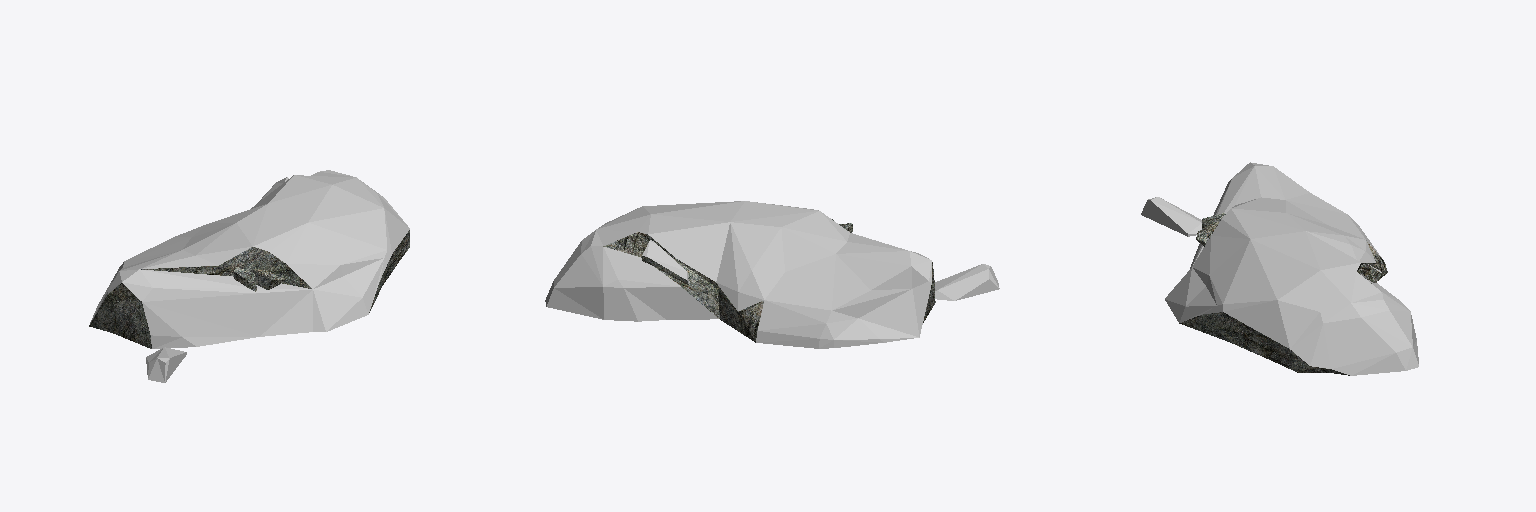
3 views of the same model, side by side, from view 1: azimuth 30°, elevation 25°; view 2: azimuth 150°, elevation 25°; view 3: azimuth 270°, elevation 25° (orthographic).
Parts seen in each view (by area): view 1: outcropA; view 2: outcropA; view 3: outcropA.
Boxes of the visible parts, <box> form: outcropA: <box>89,170,409,382</box>; outcropA: <box>545,201,999,348</box>; outcropA: <box>1141,162,1418,375</box>.
Bounding box in the file's own units: 31.9 × 6.66 × 22.67.
Materials: 2 (1 with a texture image).